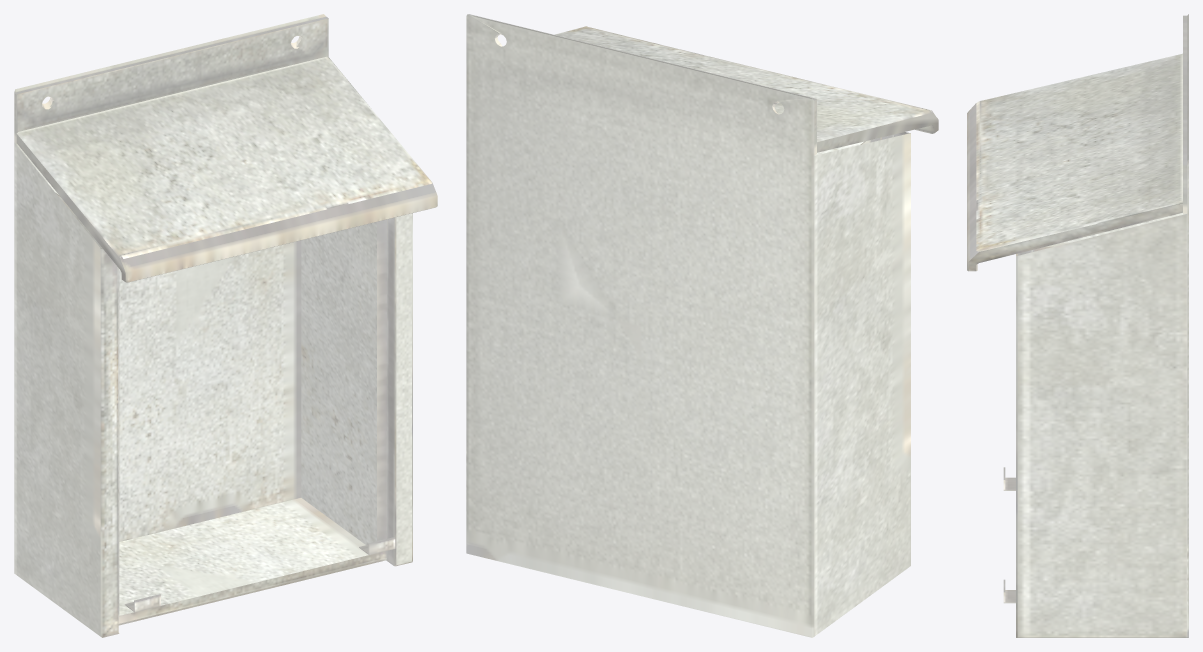
The model's file is E_MailBox.fbx.
3 renders of one model, left to right at view 1: azimuth 30°, elevation 25°; view 2: azimuth 150°, elevation 25°; view 3: azimuth 270°, elevation 25°, orthographic. The views are drawn at different scales.
Parts seen in each view (by area): view 1: E_MailBox; view 2: E_MailBox; view 3: E_MailBox.
Part boxes in pixels (x1,y1,x2,y2): E_MailBox: [14, 14, 437, 637]; E_MailBox: [466, 14, 938, 637]; E_MailBox: [967, 14, 1188, 637].
Size of the model in its own units: 27.65 by 40.96 by 17.32.
Materials: 1 (1 with a texture image).
